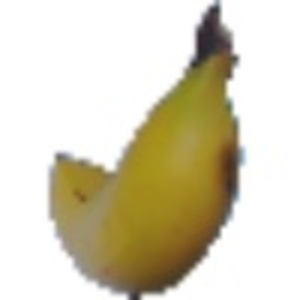banana: (41, 6, 257, 294)
